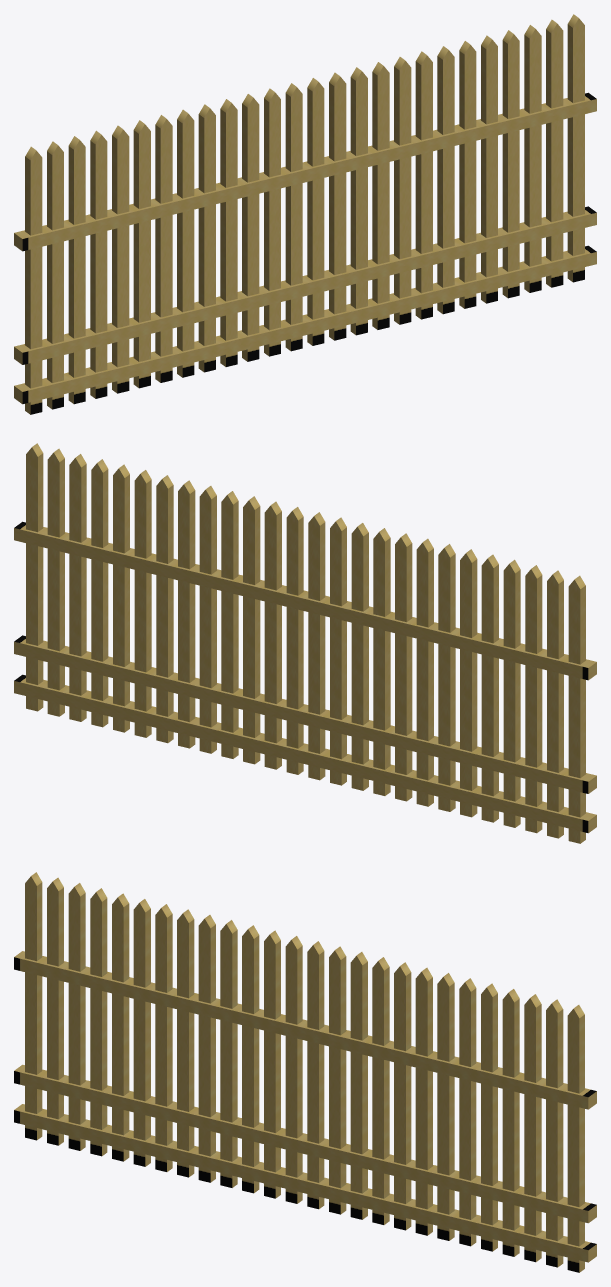
The model's file is saku.FBX.
3 renders of one model, top to bottom at view 1: azimuth 30°, elevation 25°; view 2: azimuth 150°, elevation 25°; view 3: azimuth 330°, elevation 25°, orthographic.
Visible parts, largest first — view 1: Box054; view 2: Box054; view 3: Box054.
Boxes of the visible parts, box(x1,y1,x2,y2) form: Box054: box(14, 14, 596, 414); Box054: box(14, 443, 596, 843); Box054: box(14, 872, 596, 1272).
Bounding box in the file's own units: 827 × 362 × 21.21.
